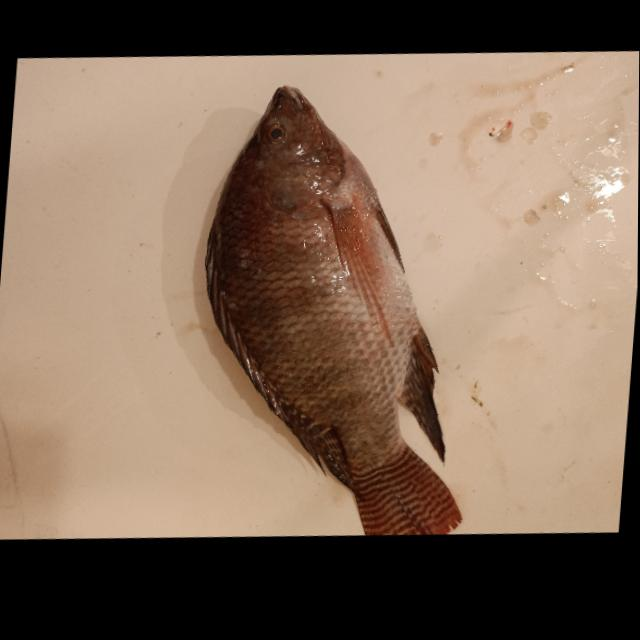Tilapia: (180, 61, 497, 556)
